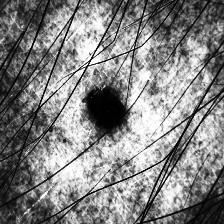Benign Marking or Mole: (88, 84, 127, 131)
